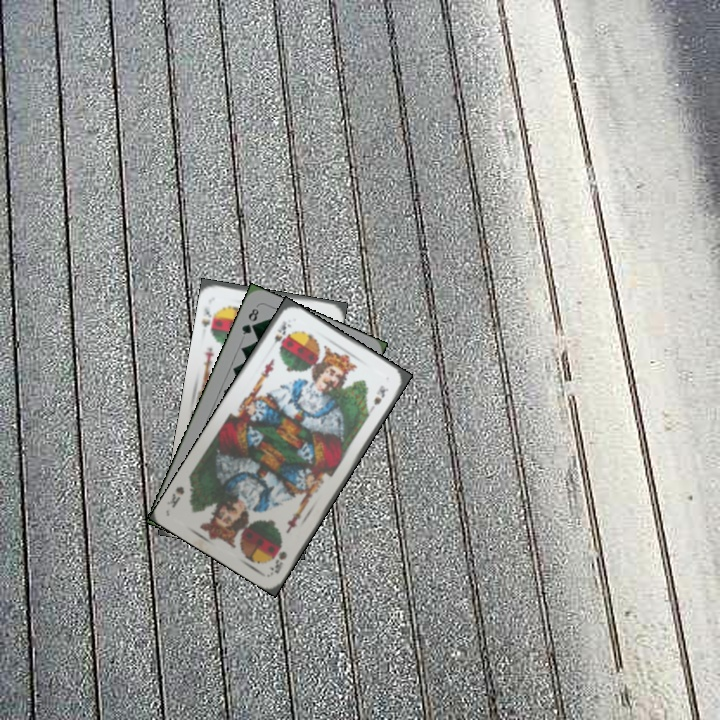G8: (238, 304, 261, 337)
SK: (265, 317, 294, 353), (265, 547, 290, 576), (198, 304, 219, 336)
